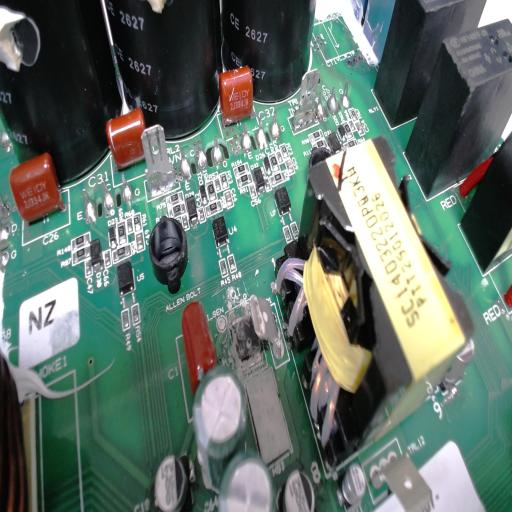pin_group: (76, 161, 136, 231), (177, 125, 227, 186), (236, 108, 284, 158), (312, 76, 354, 120)
solder_ball: (79, 180, 100, 225), (117, 168, 134, 206), (99, 176, 116, 212), (180, 140, 194, 180), (210, 129, 225, 166), (195, 132, 208, 173), (239, 121, 253, 150), (340, 79, 353, 109), (254, 117, 266, 148), (269, 110, 281, 140), (328, 88, 341, 114), (315, 89, 325, 116)
